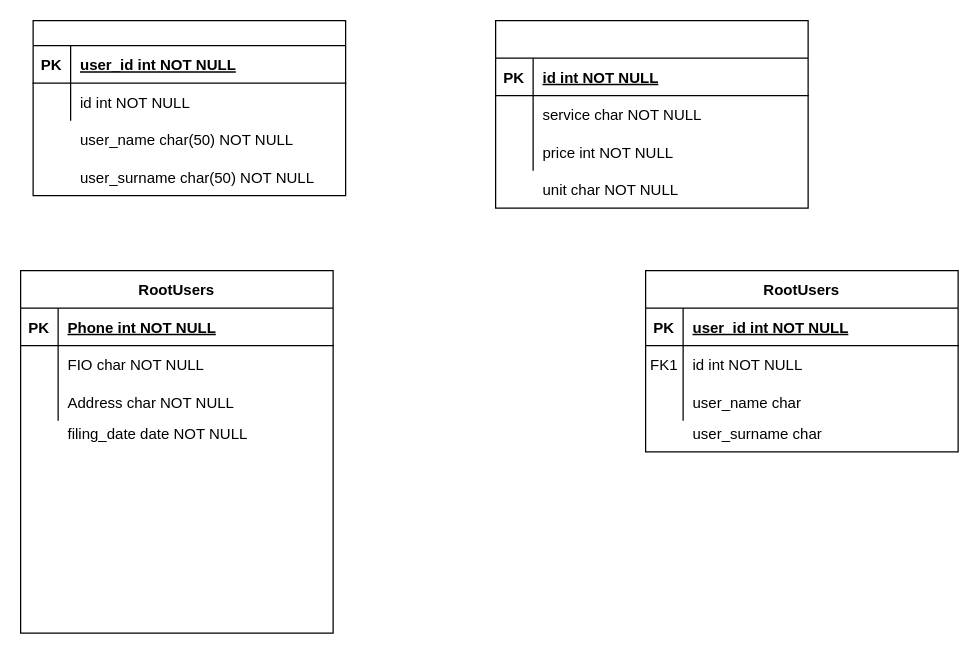
Image size: 979x654. Some labels were removed from this diagram. The box of each missing label's shape, as (x1, y1, x2, y2) in pixels:
MailingSale: (32, 19, 346, 196)
PriceList: (494, 19, 808, 208)
